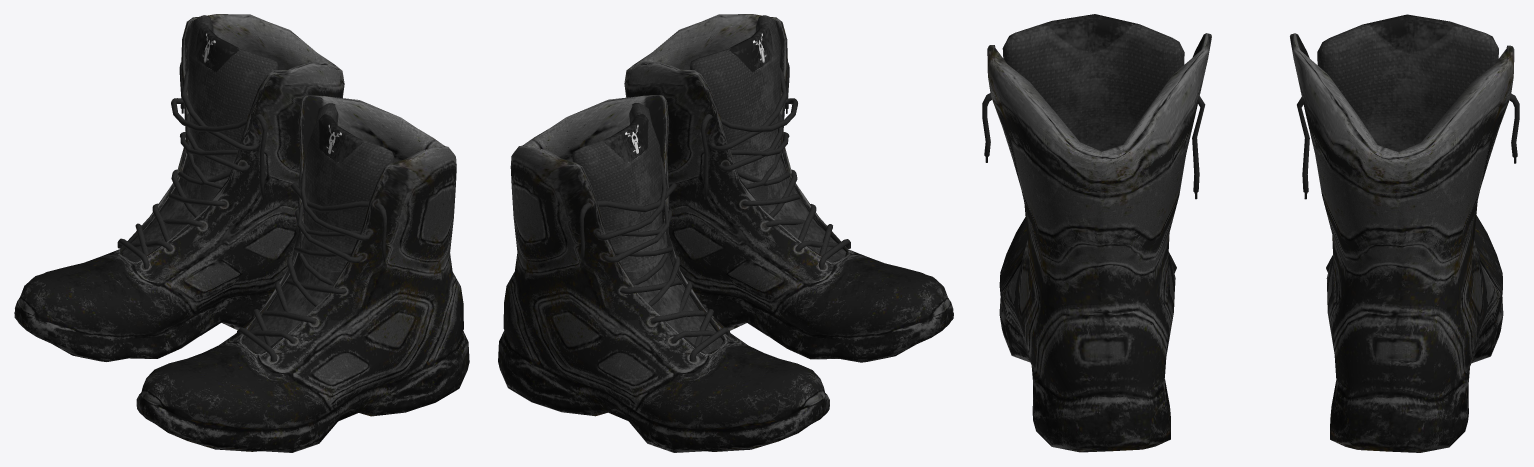
File: black.glb
The picture shows the model from 3 angles, left to right: view 1: azimuth 30°, elevation 25°; view 2: azimuth 150°, elevation 25°; view 3: azimuth 270°, elevation 25°; orthographic projection. The views are drawn at different scales.
Visible parts, largest first — view 1: Object_2.005; view 2: Object_2.005; view 3: Object_2.005.
Part boxes in pixels (x1,y1,x2,y2): Object_2.005: (14, 14, 469, 452); Object_2.005: (498, 14, 953, 452); Object_2.005: (982, 14, 1519, 452).
Size of the model in its own units: 0.289 by 0.2418 by 0.3168.
Materials: 1 (1 with a texture image).
